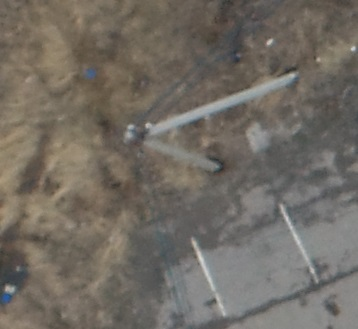opora: (121, 66, 299, 175)
